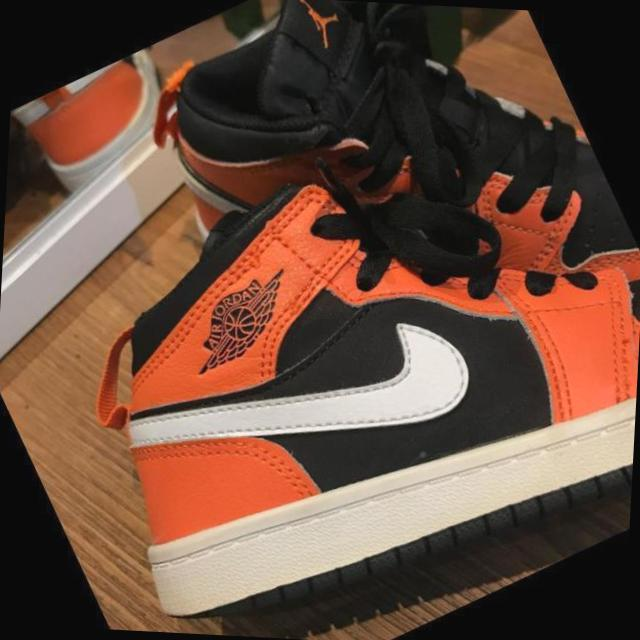nike_fake_jordan: (6, 36, 640, 640), (112, 0, 627, 384)
